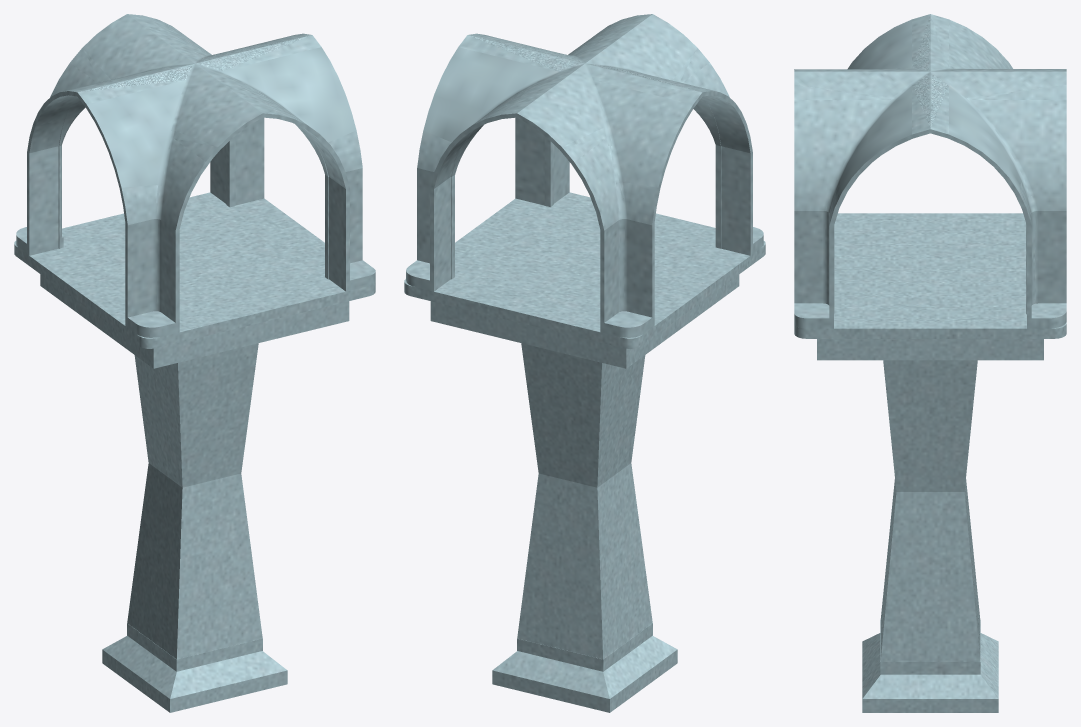
The model's file is Ghouse06.glb.
3 views of the same model, side by side, from view 1: azimuth 30°, elevation 25°; view 2: azimuth 150°, elevation 25°; view 3: azimuth 270°, elevation 25° (orthographic).
Visible parts, largest first — view 1: Part11[44], Part28[149], Part17[109]; view 2: Part11[44], Part28[149], Part17[109]; view 3: Part11[44], Part28[149], Part17[109].
Part boxes in pixels (x1,y1,x2,y2): Part11[44]: (16,14,375,337); Part28[149]: (102,343,287,712); Part17[109]: (14,192,375,368); Part11[44]: (406,14,763,337); Part28[149]: (492,343,677,712); Part17[109]: (404,192,765,368); Part11[44]: (794,14,1066,328); Part28[149]: (862,360,998,712); Part17[109]: (794,213,1066,360).
Bounding box in the file's own units: 0.012 × 0.0298 × 0.012.
3 materials, 3 textured.
